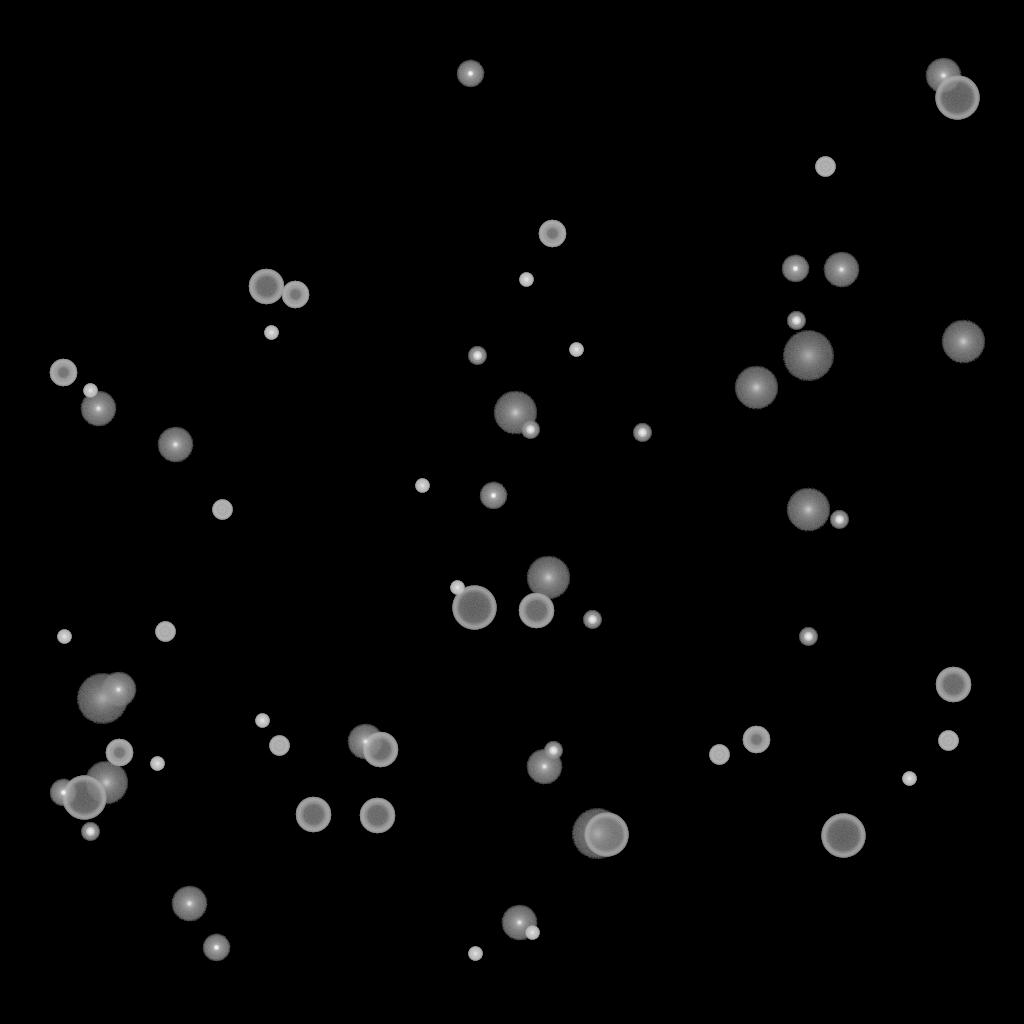depth:-10: (202, 934, 230, 962), (781, 255, 809, 283), (479, 482, 507, 510), (456, 60, 484, 88), (49, 779, 77, 807)
depth:-20: (468, 347, 486, 365), (583, 611, 601, 629), (521, 421, 539, 439), (799, 628, 817, 646), (787, 312, 805, 330), (830, 511, 848, 529), (81, 823, 99, 841), (544, 742, 562, 760), (633, 424, 651, 442)
depth:-30: (569, 343, 583, 357), (255, 714, 269, 728), (83, 384, 97, 398), (525, 926, 539, 940), (264, 326, 278, 340), (519, 273, 533, 287), (57, 630, 71, 644), (450, 581, 464, 595), (468, 947, 482, 961), (902, 772, 916, 786), (150, 757, 164, 771), (415, 479, 429, 493)
depth:-40: (938, 731, 958, 751), (269, 736, 289, 756), (709, 745, 729, 765), (155, 622, 175, 642), (815, 157, 835, 177), (212, 500, 232, 520)
depth:-50: (538, 220, 566, 248), (105, 739, 133, 767), (49, 359, 77, 387), (742, 726, 770, 754), (281, 281, 309, 309)
depth:-60: (248, 269, 284, 305), (359, 798, 395, 834), (518, 593, 554, 629), (295, 797, 331, 833), (935, 667, 971, 703), (362, 732, 398, 768)
depth:-70: (935, 76, 979, 120), (584, 813, 628, 857), (452, 586, 496, 630), (62, 776, 106, 820), (821, 814, 865, 858)
depth:0: (100, 672, 136, 708), (157, 427, 193, 463), (347, 724, 383, 760), (925, 58, 961, 94), (171, 886, 207, 922), (501, 905, 537, 941), (80, 391, 116, 427), (823, 252, 859, 288), (526, 749, 562, 785)
depth:10: (493, 391, 537, 435), (84, 761, 128, 805), (786, 488, 830, 532), (526, 556, 570, 600), (734, 366, 778, 410), (941, 320, 985, 364)
depth:20: (571, 809, 623, 859), (782, 331, 834, 381), (76, 674, 128, 724)
